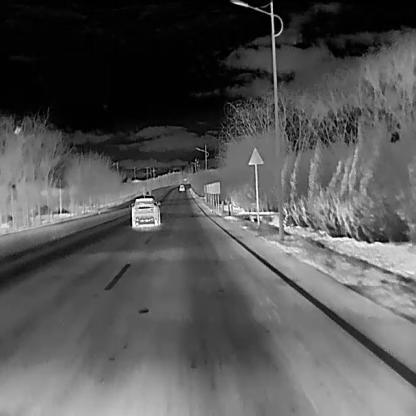car: (131, 196, 161, 227), (179, 184, 185, 190)
